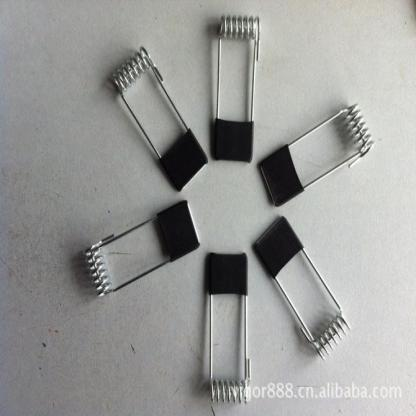FOD: (112, 42, 209, 192), (254, 100, 374, 209), (82, 196, 201, 302), (200, 248, 254, 408), (208, 10, 262, 165)
